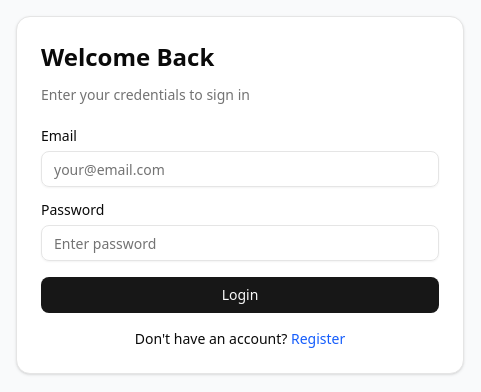
Login Page › shows loading state while logging in
Type "test@example.com" into the field labelled "Email" at (240, 169), box [41,151,439,187]
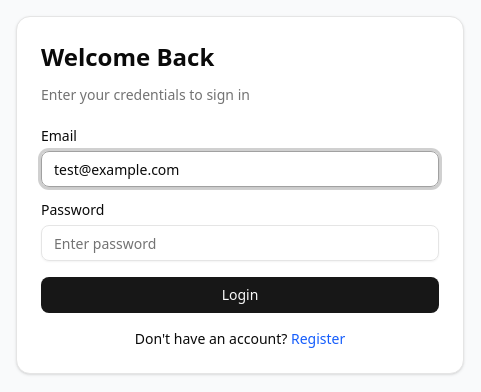
Type "password123" into the password field labelled "Password" at (240, 243), box [41,225,439,261]
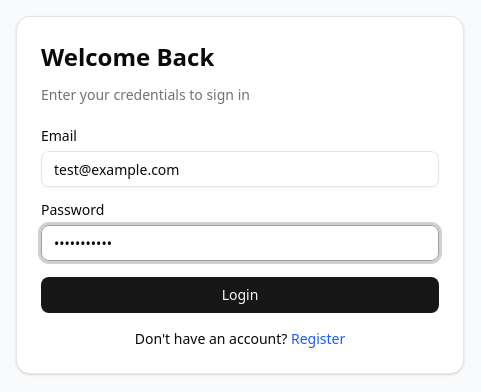
Click the button "Login" at (240, 295), box [41,277,439,313]
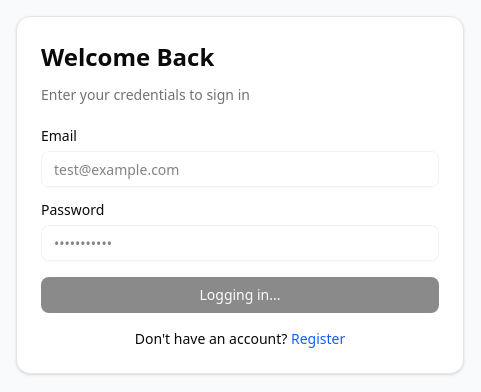
Now the button "Logging in..." is disabled, box [41,277,439,313]
